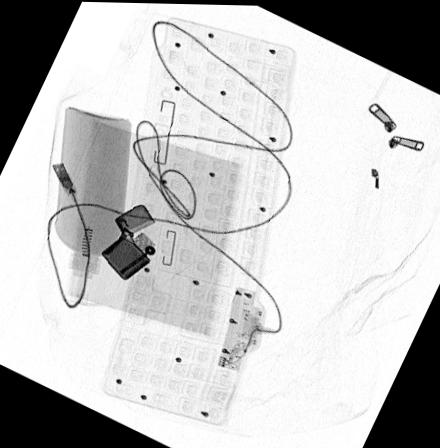Lighter: (100, 202, 157, 279)
